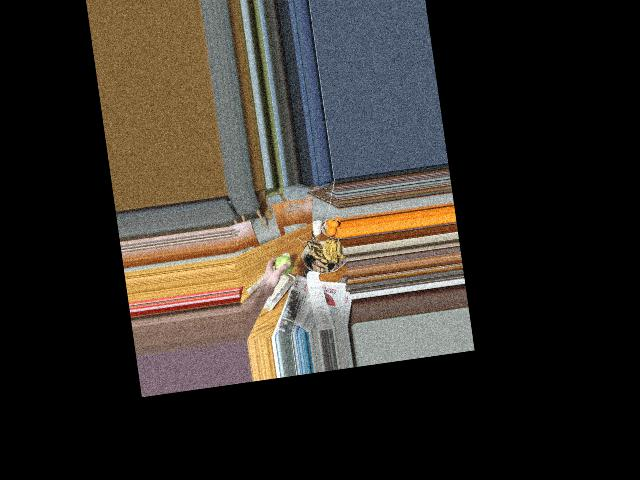apple: (272, 253, 294, 277)
